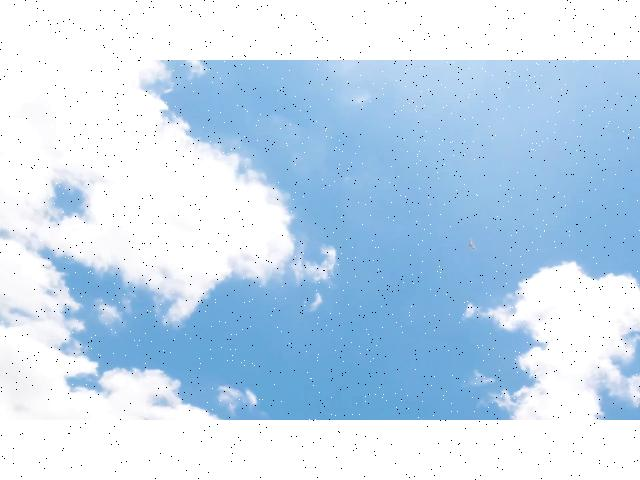Anti-Drone: (458, 228, 480, 254)
